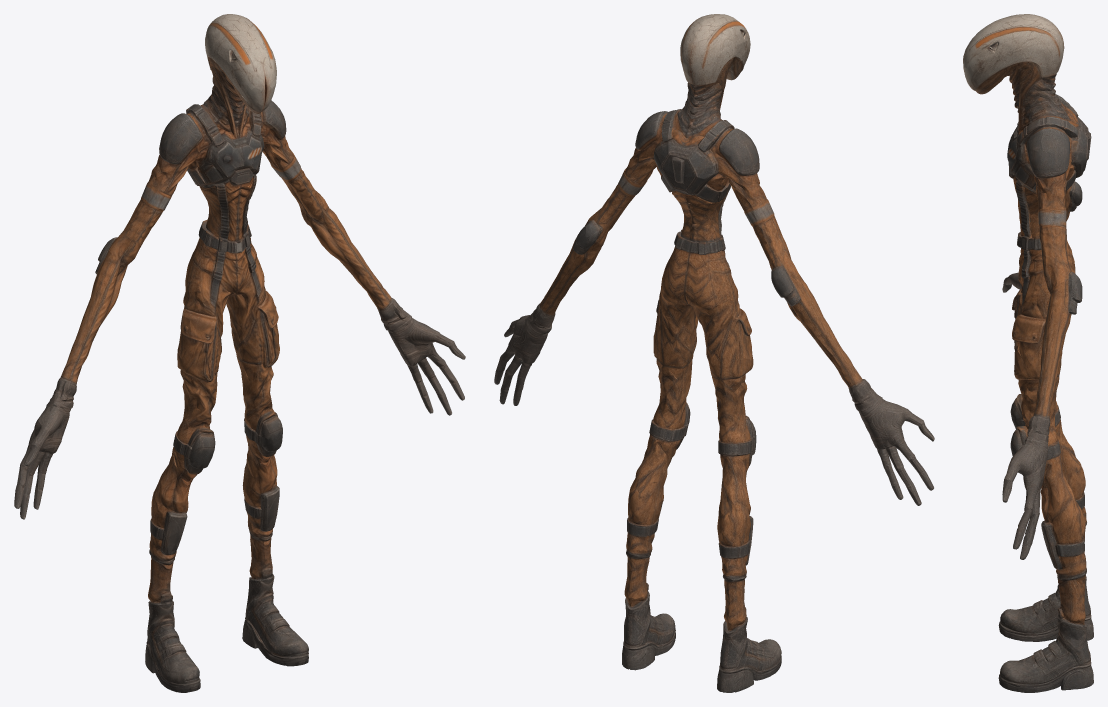
The model's file is mimic_mixamo.fbx.
3 views of the same model, side by side, from view 1: azimuth 30°, elevation 25°; view 2: azimuth 150°, elevation 25°; view 3: azimuth 270°, elevation 25° (orthographic). The views are drawn at different scales.
Visible parts, largest first — view 1: mimic; view 2: mimic; view 3: mimic.
Boxes of the visible parts, box(x1,y1,x2,y2) form: mimic: box(14, 14, 465, 692); mimic: box(494, 14, 934, 692); mimic: box(963, 14, 1093, 692).
Bounding box in the file's own units: 1.8 × 2.5 × 0.4604.
Materials: 1 (1 with a texture image).
